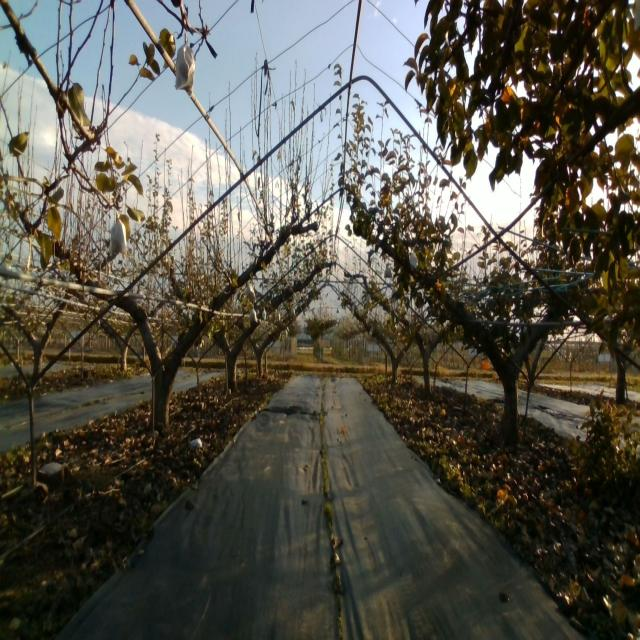pearbags: (174, 32, 196, 96), (107, 209, 127, 255)
